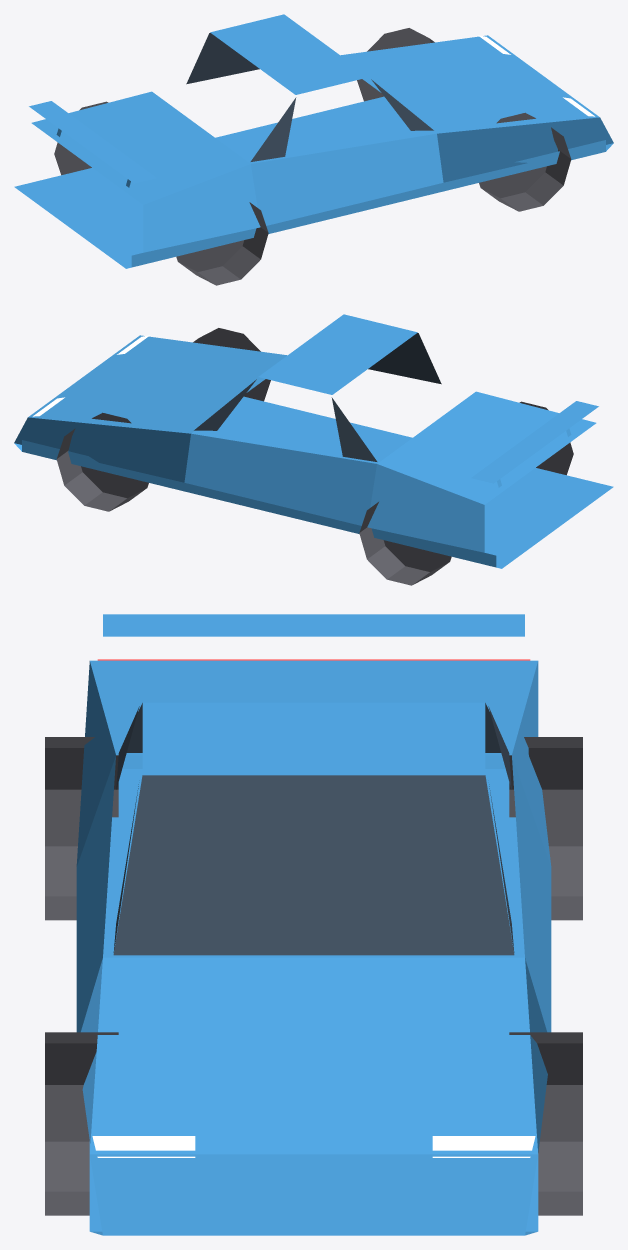
File: car.glb
3 views of the same model, one above another, from view 1: azimuth 30°, elevation 25°; view 2: azimuth 150°, elevation 25°; view 3: azimuth 270°, elevation 25° (orthographic). The views are drawn at different scales.
Visible parts, largest first — view 1: SimpleSportCar; view 2: SimpleSportCar; view 3: SimpleSportCar.
Boxes of the visible parts, left/top/right/bottom form: SimpleSportCar: left=14, top=14, right=613, bottom=285; SimpleSportCar: left=14, top=314, right=613, bottom=585; SimpleSportCar: left=45, top=614, right=582, bottom=1235.
Bounding box in the file's own units: 4.3 × 1.23 × 2.04.
